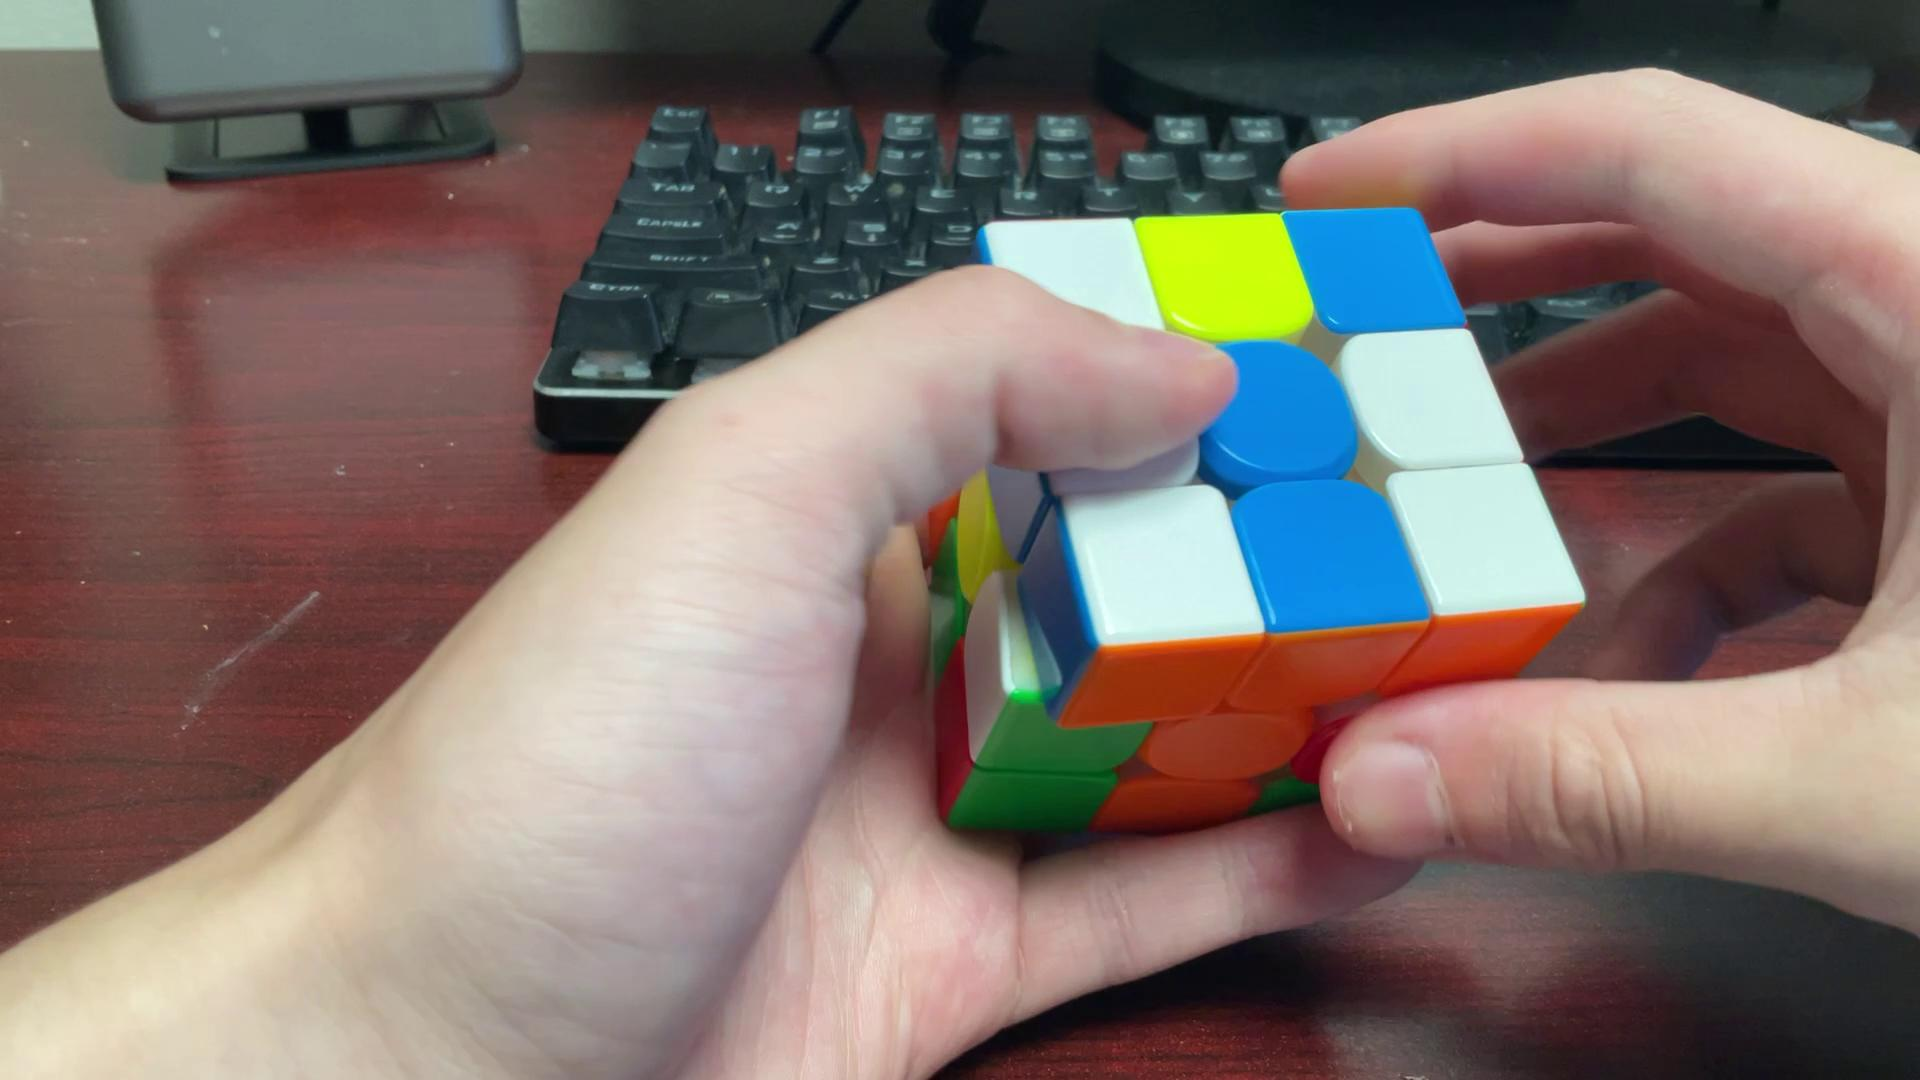Rubiks-Cube: (869, 186, 1597, 844)
